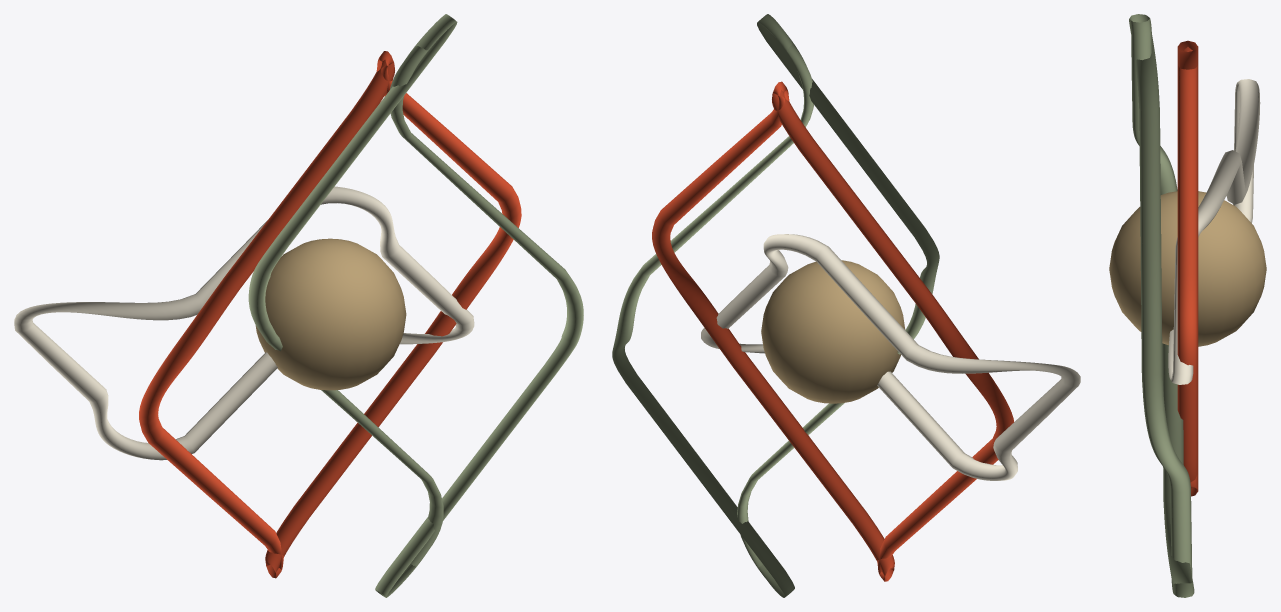
File: principles.glb
The picture shows the model from 3 angles, left to right: view 1: azimuth 30°, elevation 25°; view 2: azimuth 150°, elevation 25°; view 3: azimuth 270°, elevation 25°; orthographic projection. The views are drawn at different scales.
Visible parts, largest first — view 1: Principle_ring_1, Principle_ring_0, Principle_centre, Principle_ring_2; view 2: Principle_ring_1, Principle_ring_0, Principle_centre, Principle_ring_2; view 3: Principle_ring_0, Principle_centre, Principle_ring_1, Principle_ring_2.
Part boxes in pixels (bbox=[...]): Principle_ring_1: bbox=[139, 51, 521, 578]; Principle_ring_0: bbox=[248, 14, 583, 597]; Principle_centre: bbox=[255, 238, 406, 390]; Principle_ring_2: bbox=[14, 186, 474, 460]; Principle_ring_1: bbox=[652, 81, 1013, 581]; Principle_ring_0: bbox=[612, 14, 939, 597]; Principle_centre: bbox=[761, 260, 905, 403]; Principle_ring_2: bbox=[701, 234, 1080, 480]; Principle_ring_0: bbox=[1129, 14, 1194, 597]; Principle_centre: bbox=[1109, 191, 1266, 346]; Principle_ring_1: bbox=[1177, 40, 1198, 496]; Principle_ring_2: bbox=[1168, 79, 1260, 384].
Bounding box in the file's own units: 2.15 × 2.29 × 0.54.
